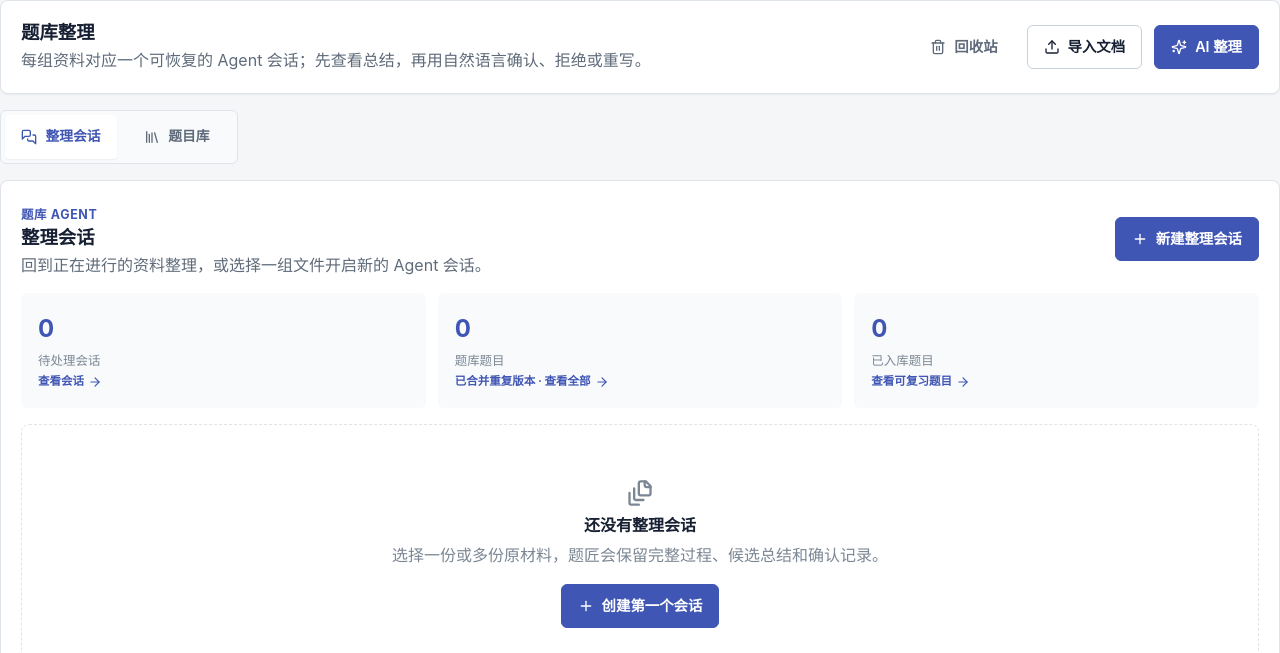
it: QuestionCatalog › selects the filtered pending questions and confirms them without publishing
Click the tab "题目库" at (177, 137), box x1=121 y1=115 x2=233 y2=159
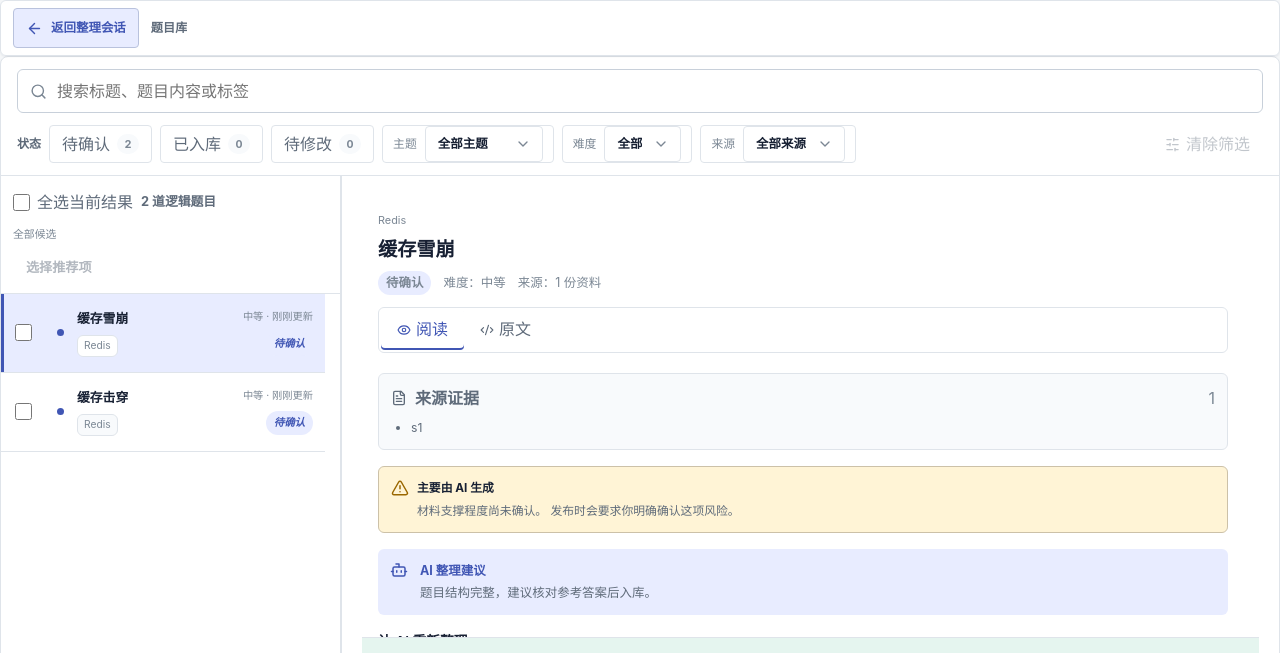
Click the checkbox named "全选当前筛选结果" at (22, 202), box x1=13 y1=194 x2=30 y2=210
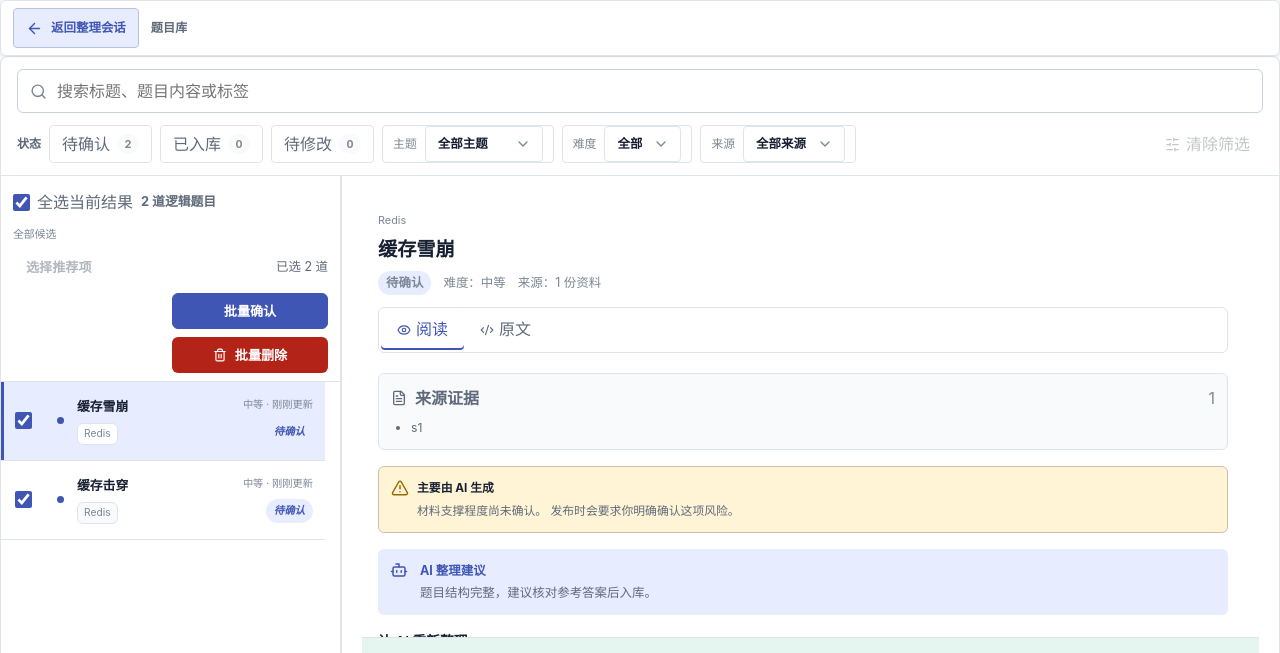
Now the text "已选 2 道" is shown, box x1=276 y1=257 x2=328 y2=276
Click the button "批量确认" at (250, 311), box x1=172 y1=293 x2=328 y2=329
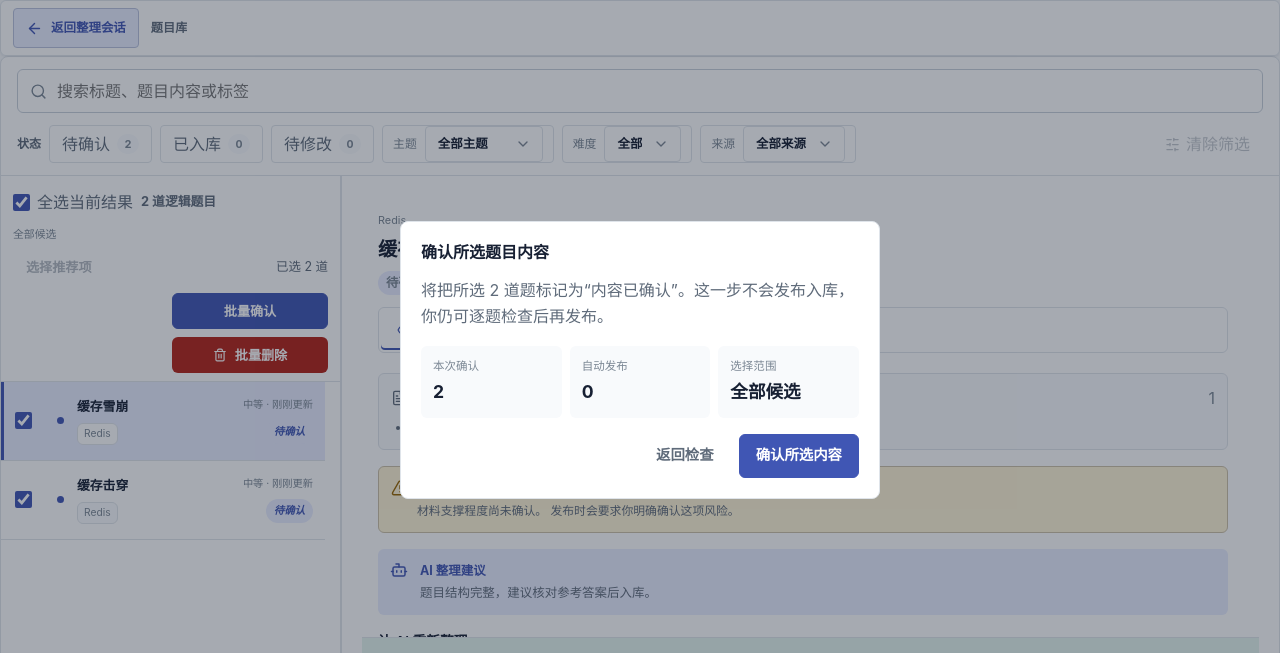
Now the dialog named "确认批量确认" shows "这一步不会发布入库", box x1=421 y1=280 x2=854 y2=326
Click the button "确认所选内容" at (799, 456), box x1=739 y1=434 x2=859 y2=478
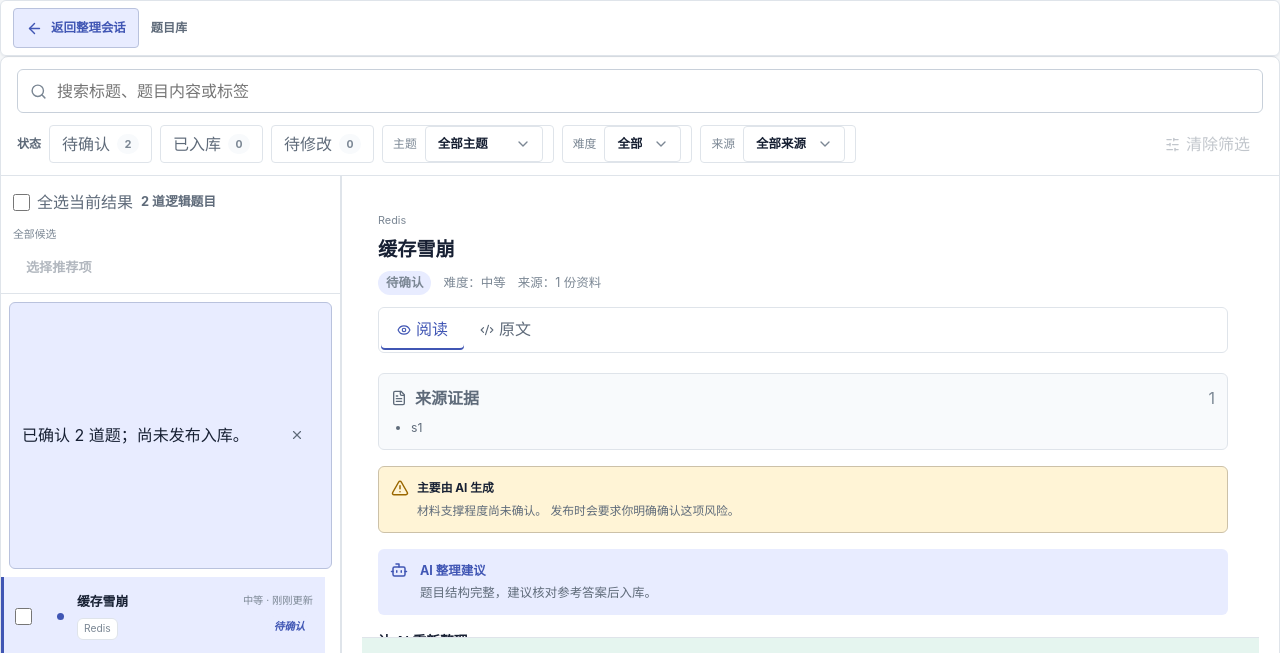
Now the text "已确认 2 道题；尚未发布入库。" is shown, box x1=22 y1=423 x2=249 y2=448
